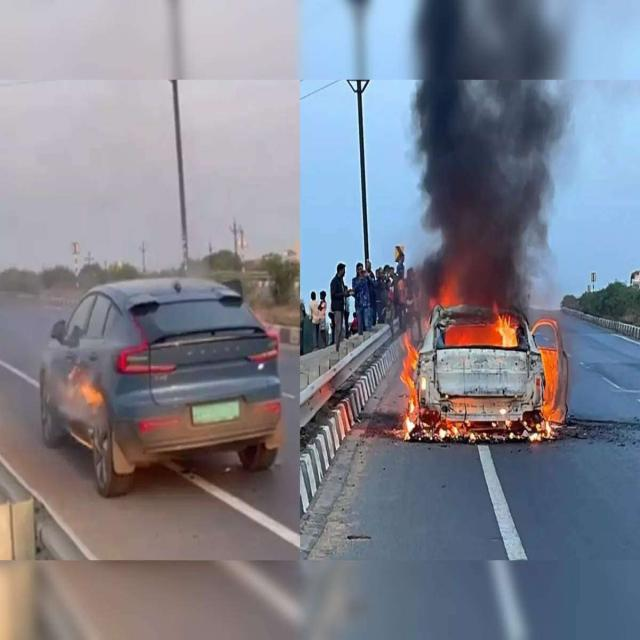accident: (410, 305, 569, 441)
car: (40, 277, 282, 496)
